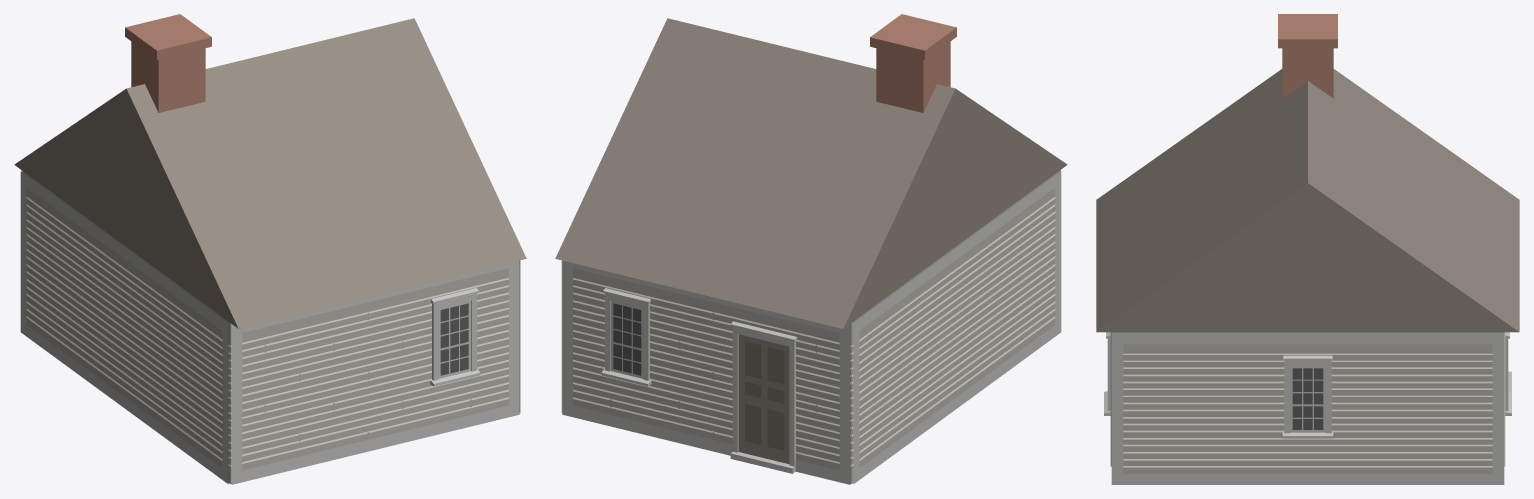
File: recon_1835_blk_indiana_north_wolcott_d3_06__inferred_1835.glb
The picture shows the model from 3 angles, left to right: view 1: azimuth 30°, elevation 25°; view 2: azimuth 150°, elevation 25°; view 3: azimuth 270°, elevation 25°; orthographic projection. The views are drawn at different scales.
Visible parts, largest first — view 1: recon_1835_blk_indiana_north_wolcott_d3_06__inferred_1835; view 2: recon_1835_blk_indiana_north_wolcott_d3_06__inferred_1835; view 3: recon_1835_blk_indiana_north_wolcott_d3_06__inferred_1835.
Boxes of the visible parts, box(x1,y1,x2,y2) form: recon_1835_blk_indiana_north_wolcott_d3_06__inferred_1835: box(14, 14, 526, 484); recon_1835_blk_indiana_north_wolcott_d3_06__inferred_1835: box(555, 14, 1067, 484); recon_1835_blk_indiana_north_wolcott_d3_06__inferred_1835: box(1096, 14, 1519, 484).
Bounding box in the file's own units: 5.28 × 6.21 × 6.92.
